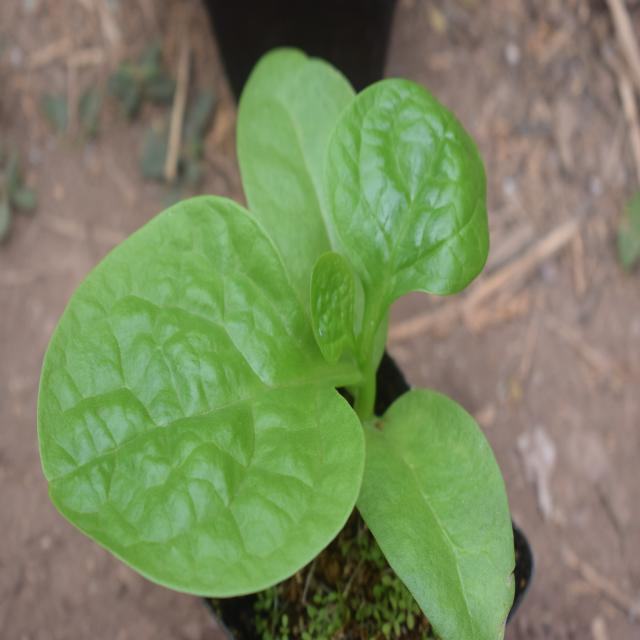Ceylon spinach: (82, 79, 530, 623)
